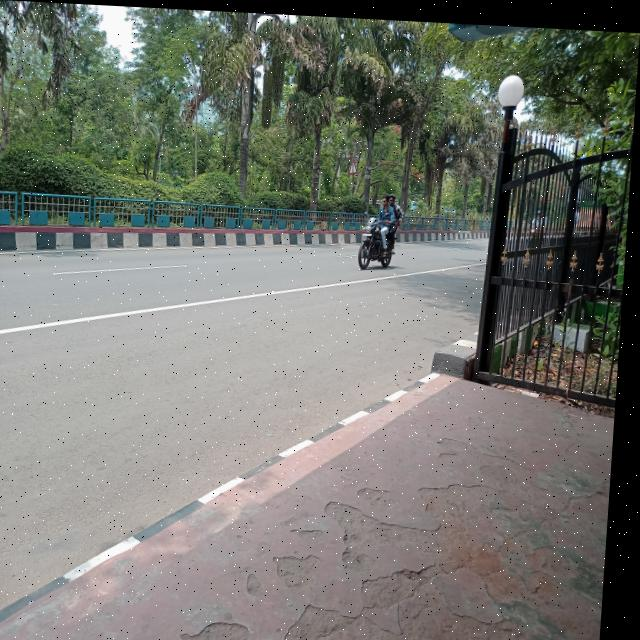bike: (352, 208, 408, 267)
